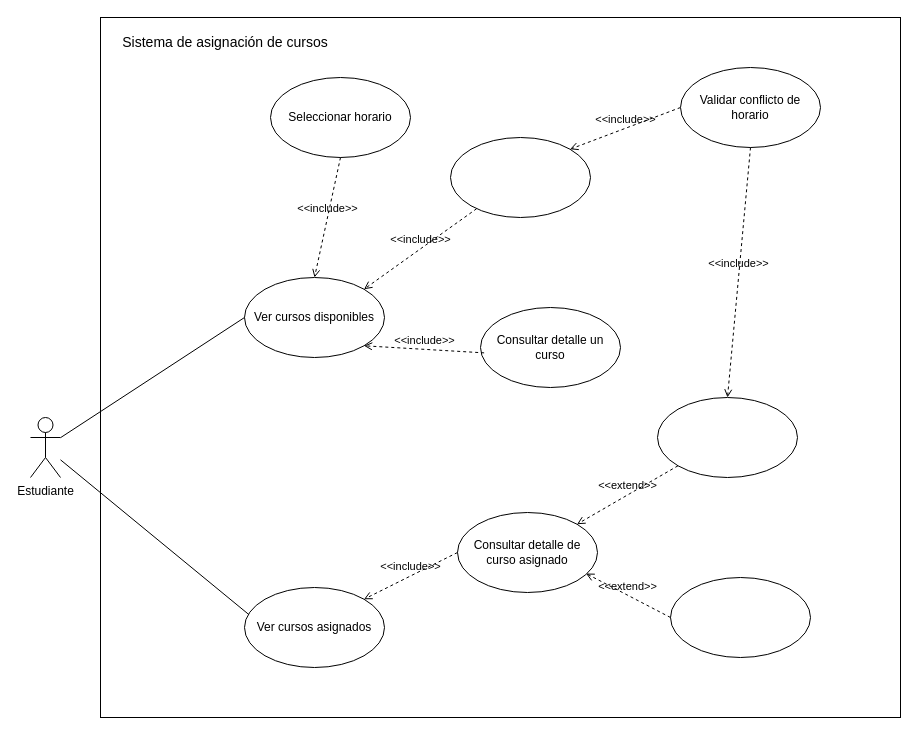
Image size: 918x735. Some labels were removed from this diagram. The shapes that lost their labels are listed below. From the top down, each one's box as (x1, y1, x2, y2) in pixels, then its label:
(450, 136, 590, 218): Asignar curso
(656, 396, 798, 478): Cambiar de horario
(670, 576, 810, 658): Retirarse del curso
